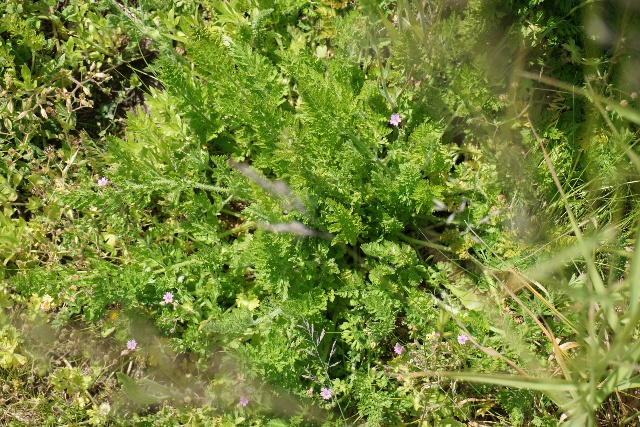daucus-carota: (7, 1, 560, 418)
